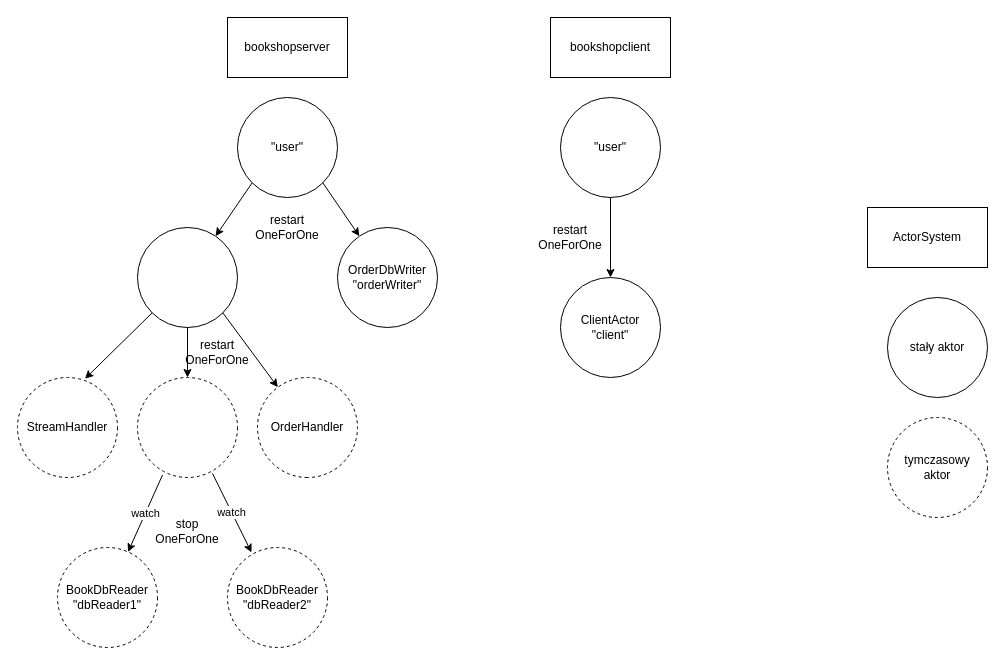
Image size: 1005x665. Some labels were removed from this diagram. The centre of each missing label's shape, as x and y in pixels:
ApiEndpoint "api": the point at 187,277
SearchHandler: the point at 187,427
